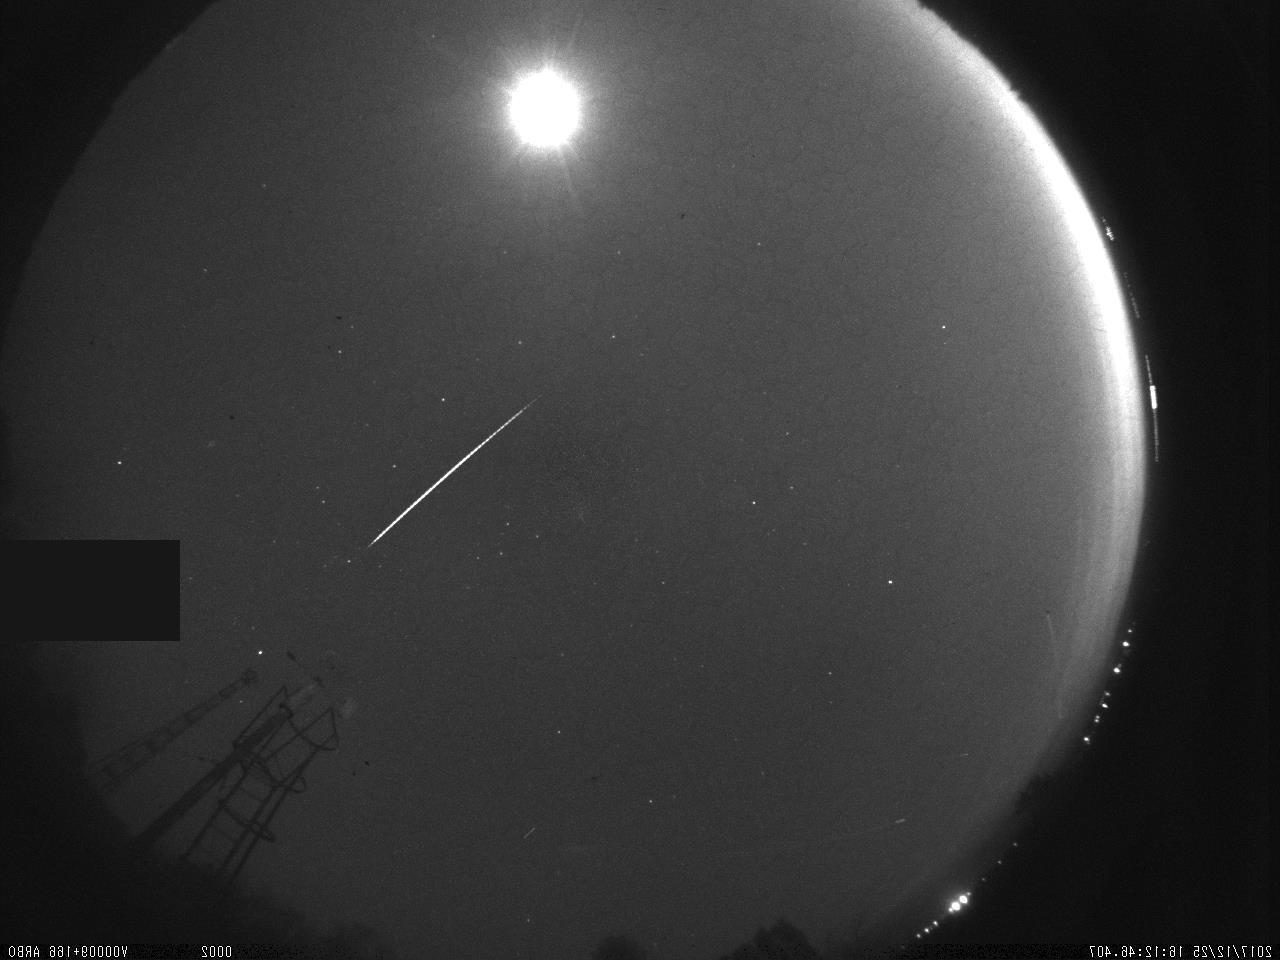meteor: (363, 380, 546, 557)
